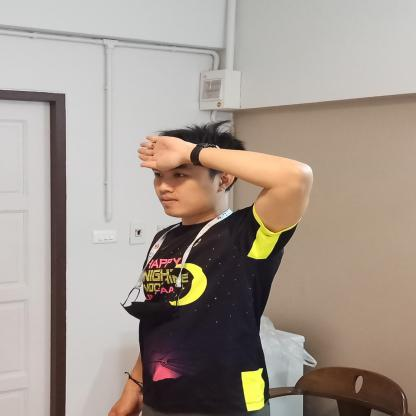Sick: (100, 114, 277, 187)
